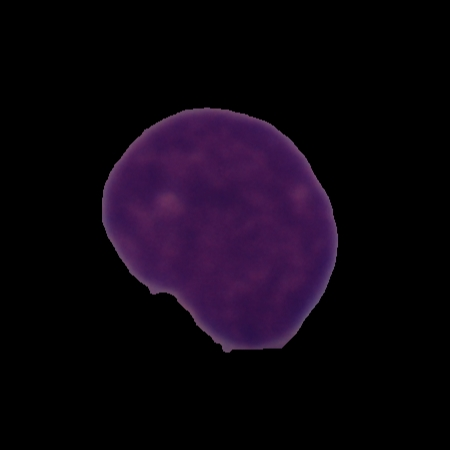ALL: (99, 105, 340, 356)
